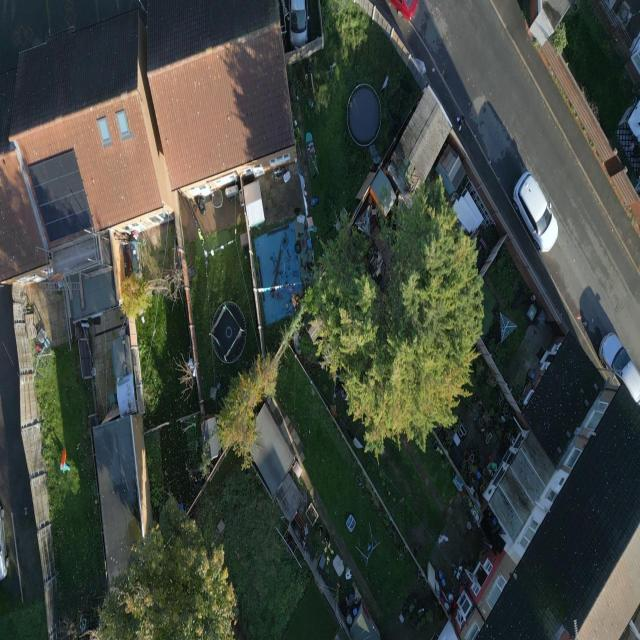Car: (512, 170, 558, 252), (598, 332, 640, 407), (286, 0, 311, 48), (386, 0, 421, 22)
